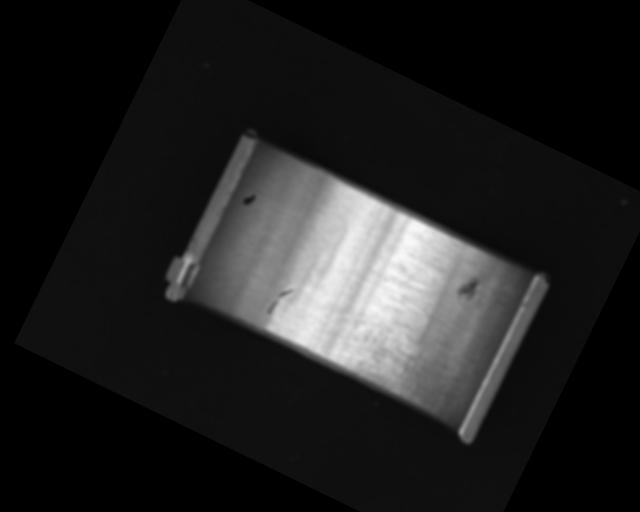blot: (240, 190, 257, 209)
bruise: (453, 272, 483, 306)
nick: (265, 283, 293, 320)
scratch: (311, 296, 445, 405)
